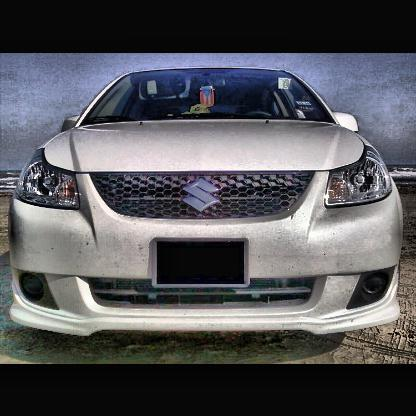Suzuki SX4 Sedan 2012: (7, 65, 407, 346)
